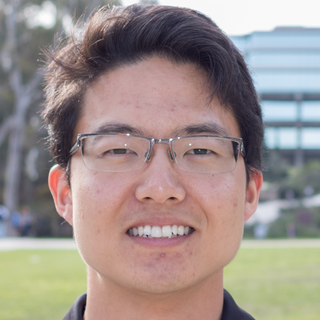eye: (177, 142, 222, 162), (96, 144, 142, 161)
